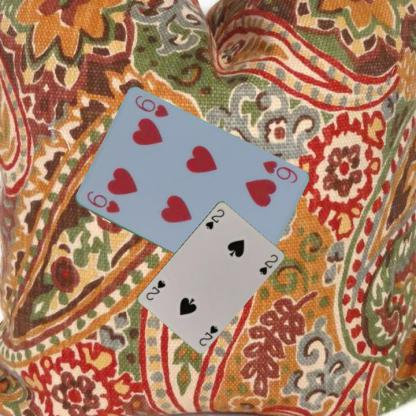2s: (203, 206, 226, 231), (196, 323, 219, 348)
6h: (259, 158, 299, 185), (84, 188, 121, 215)
